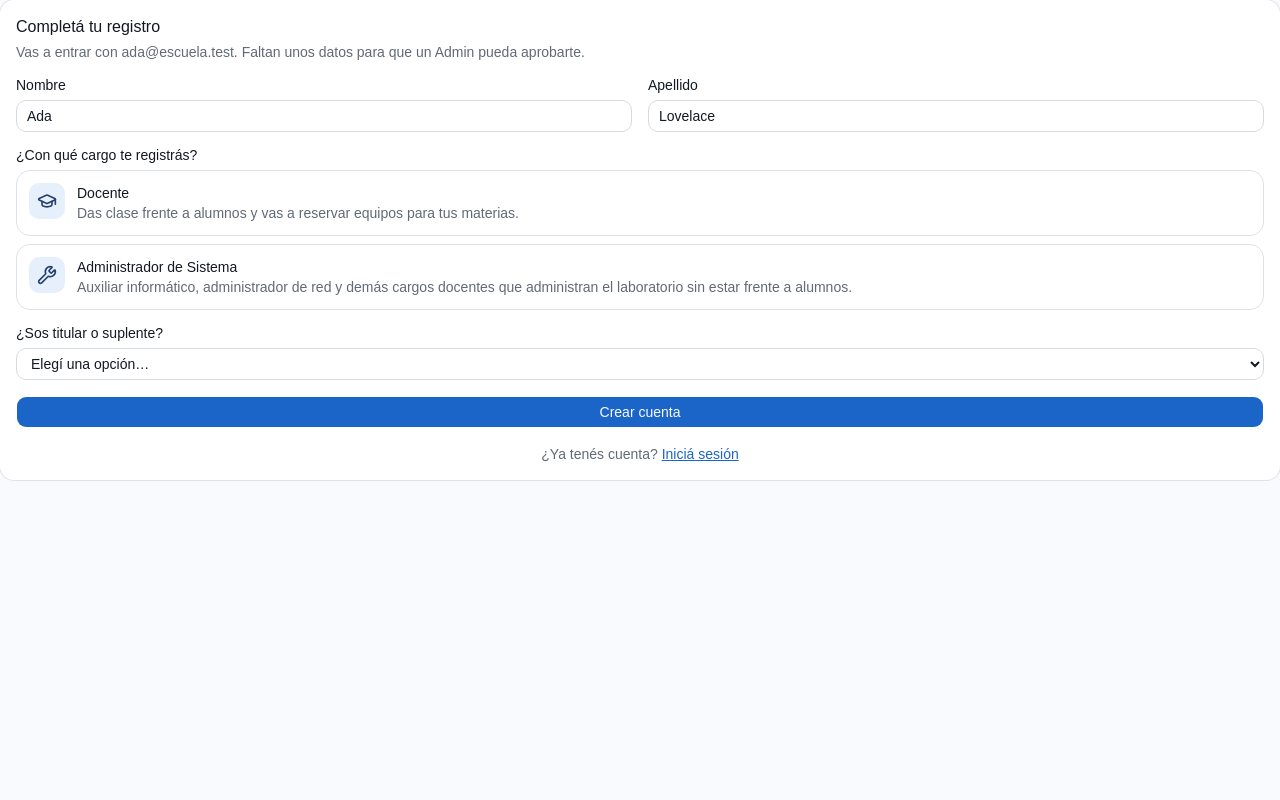
RegistroConGoogle › muestra el mensaje del backend si la cuenta ya existía
The width and height of the screenshot is (1280, 800).
Click the radio button labelled "Docente" at (47, 201), box top-left (16, 170), bottom-right (1264, 236)
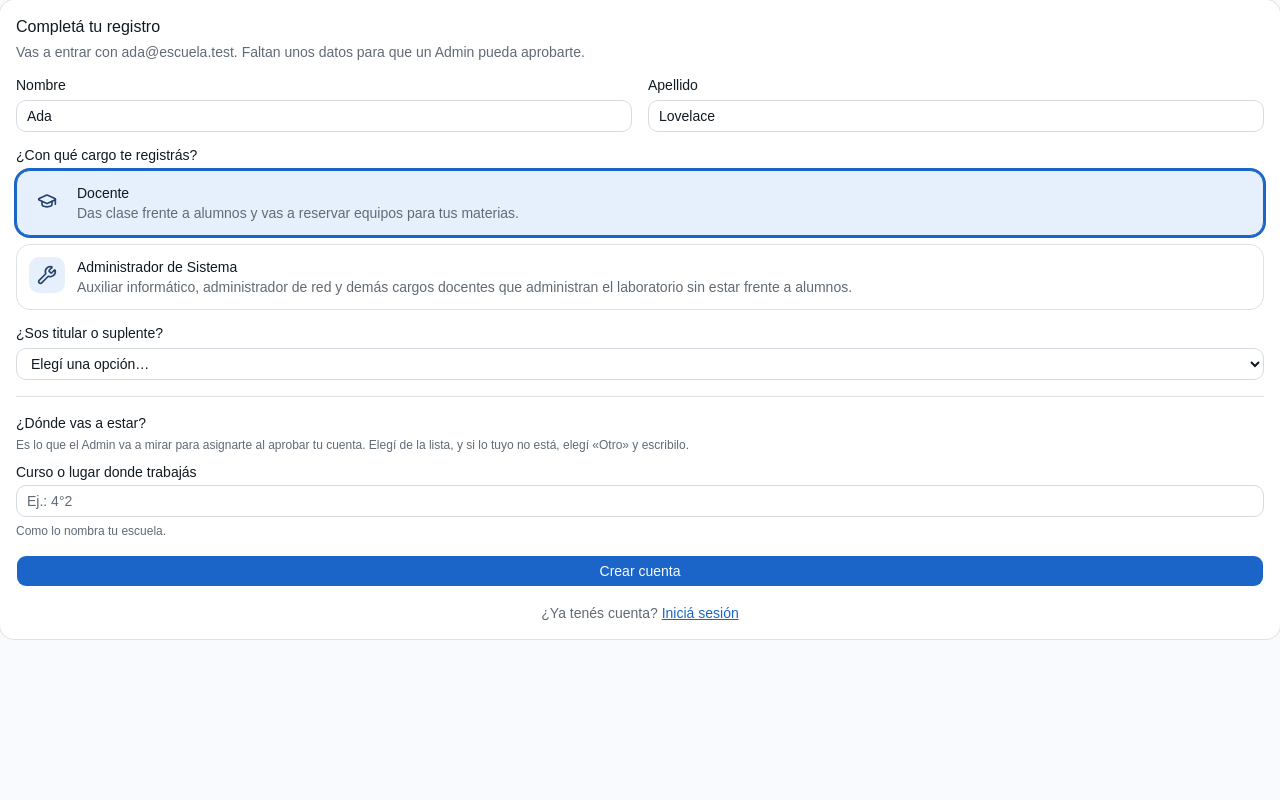
Select "Titular" in the dropdown labelled "¿Sos titular o suplente?" at (640, 364), box top-left (16, 348), bottom-right (1264, 380)
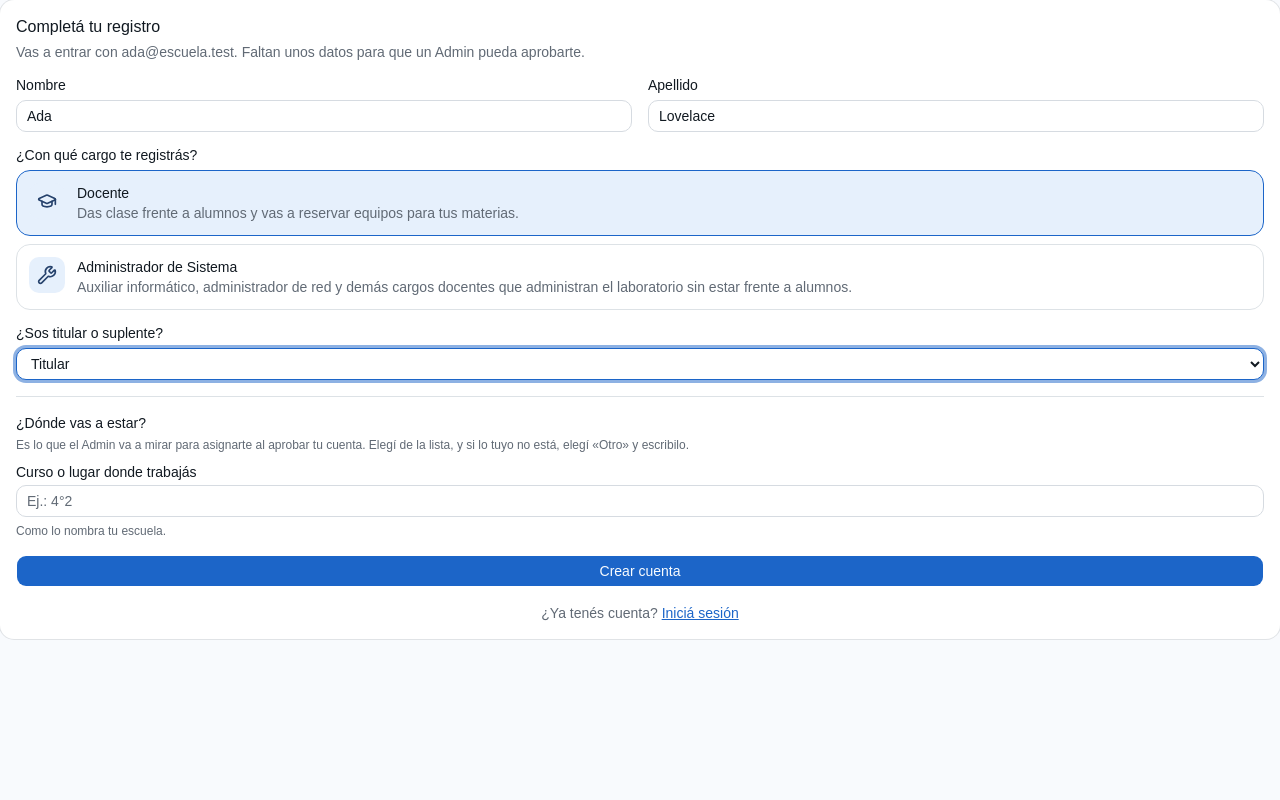
Type "5°A" into the field labelled "Curso o lugar donde trabajás" at (640, 501), box top-left (16, 485), bottom-right (1264, 517)
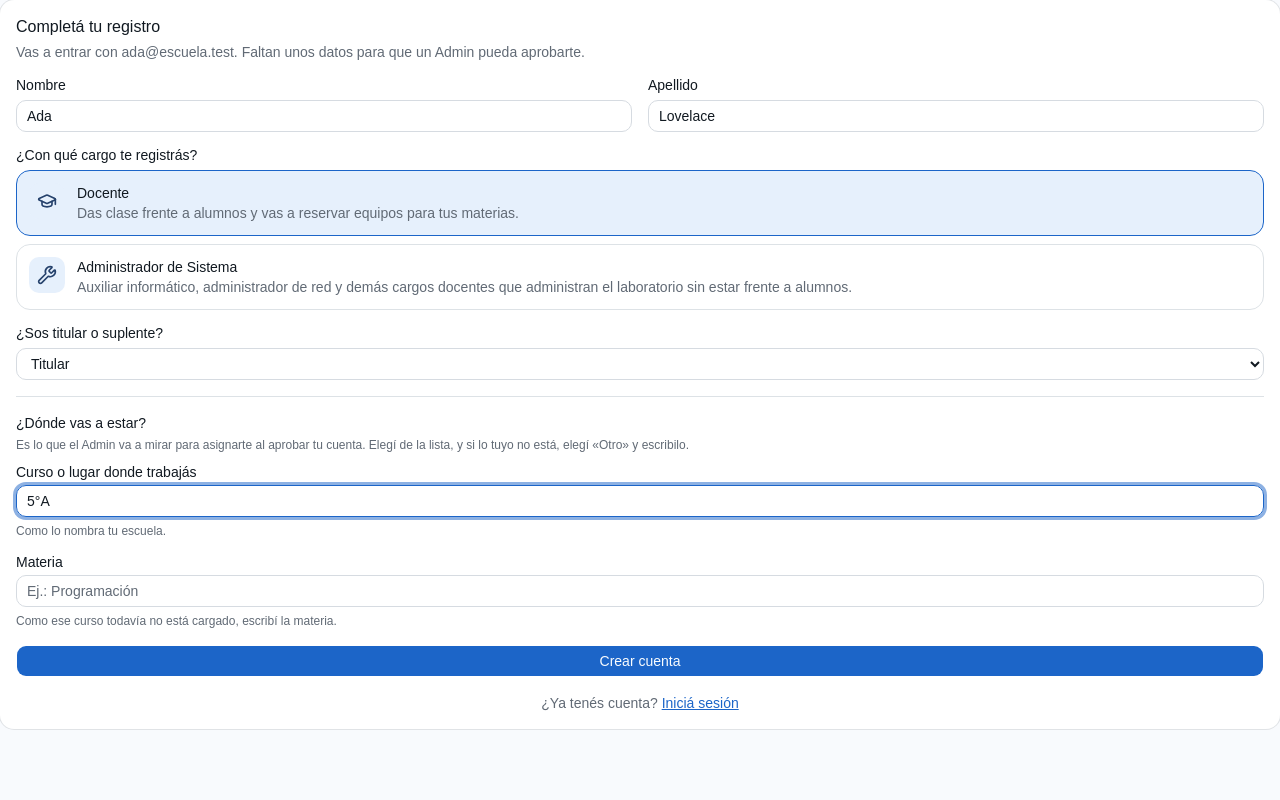
Type "Programación" into the field labelled "Materia" at (640, 591), box top-left (16, 575), bottom-right (1264, 607)
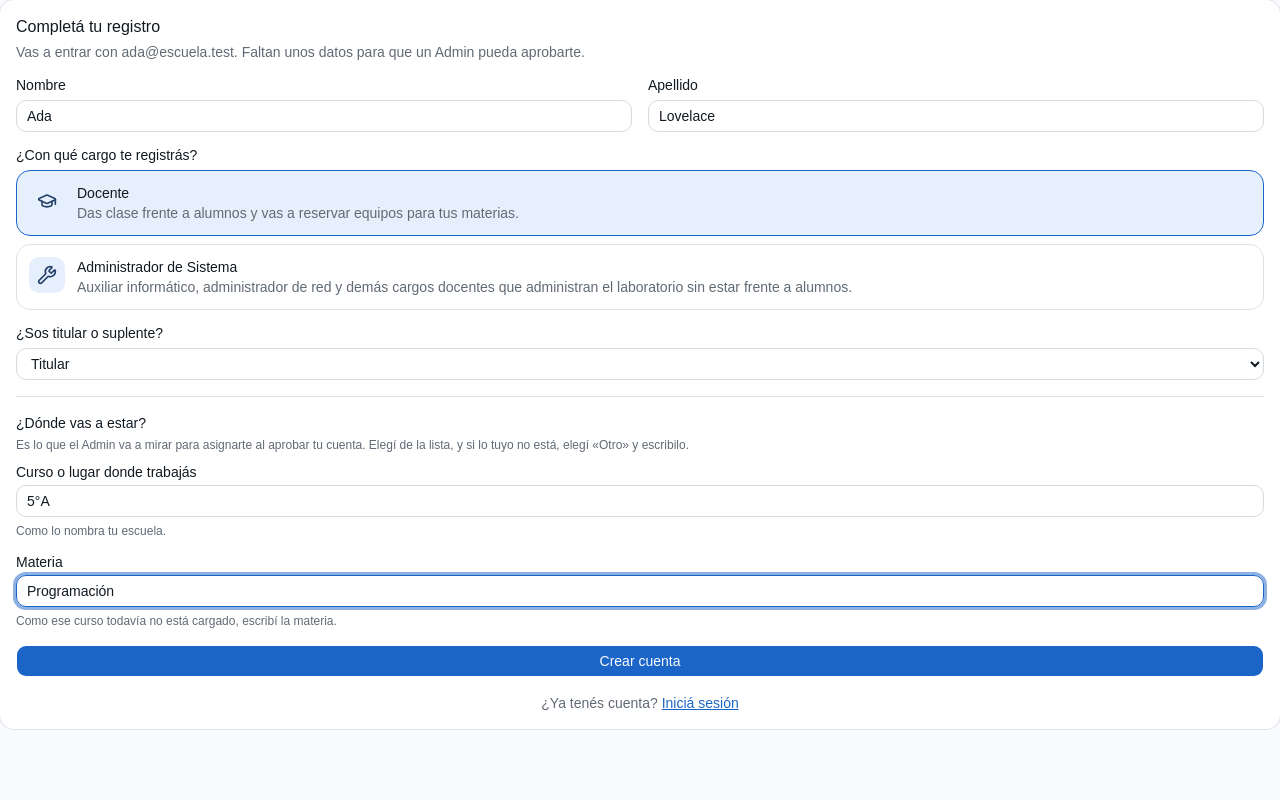
Click the button "Crear cuenta" at (640, 661), box top-left (16, 645), bottom-right (1264, 677)
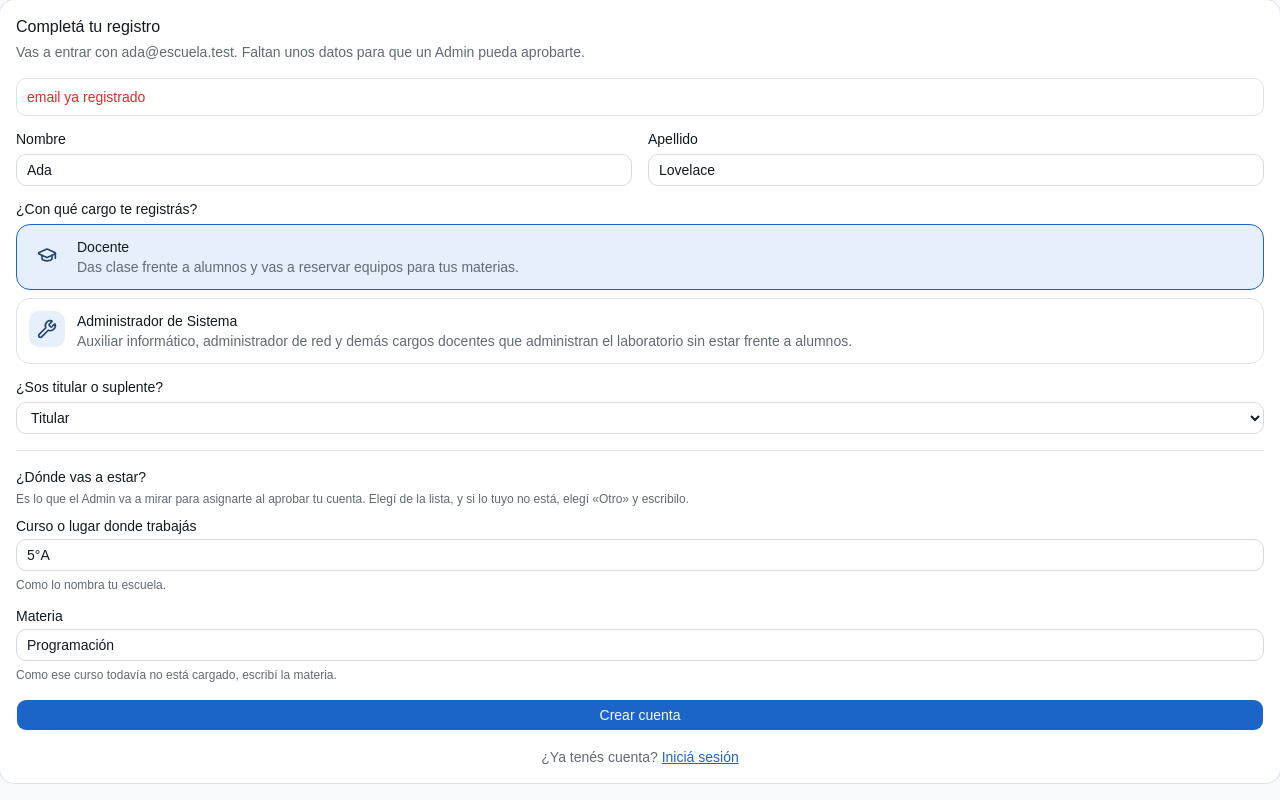
Now the text "email ya registrado" is shown, box top-left (27, 89), bottom-right (145, 105)
